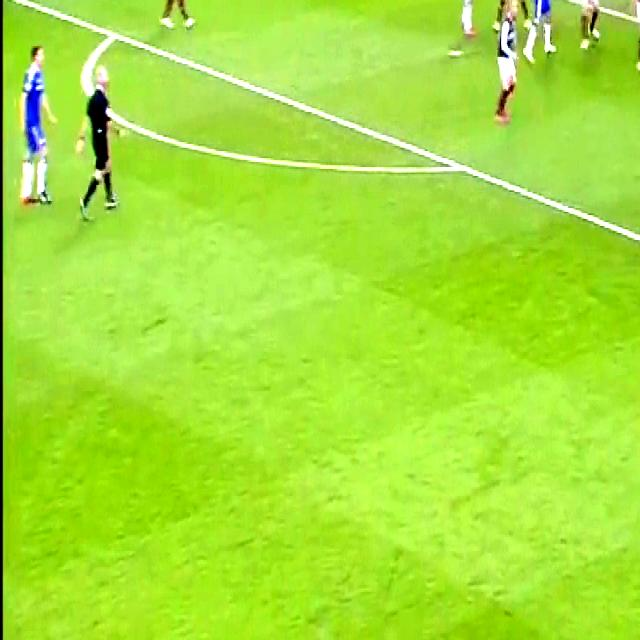referee: (78, 59, 129, 236)
soccer-player: (14, 34, 60, 215), (486, 2, 518, 134), (566, 0, 607, 57), (526, 0, 562, 64), (151, 0, 197, 37), (440, 0, 478, 43), (491, 0, 525, 34), (627, 0, 640, 82)
